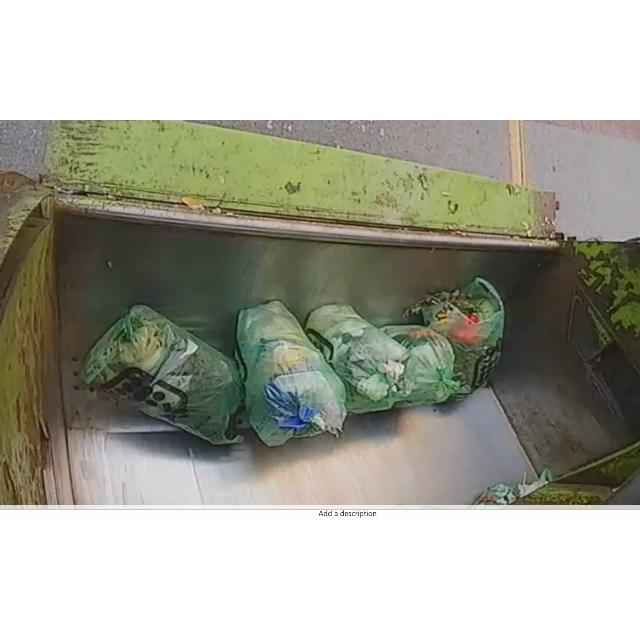general_trashbag: (80, 305, 242, 445), (236, 301, 346, 446), (405, 278, 505, 395), (305, 304, 410, 414), (380, 325, 459, 405)
